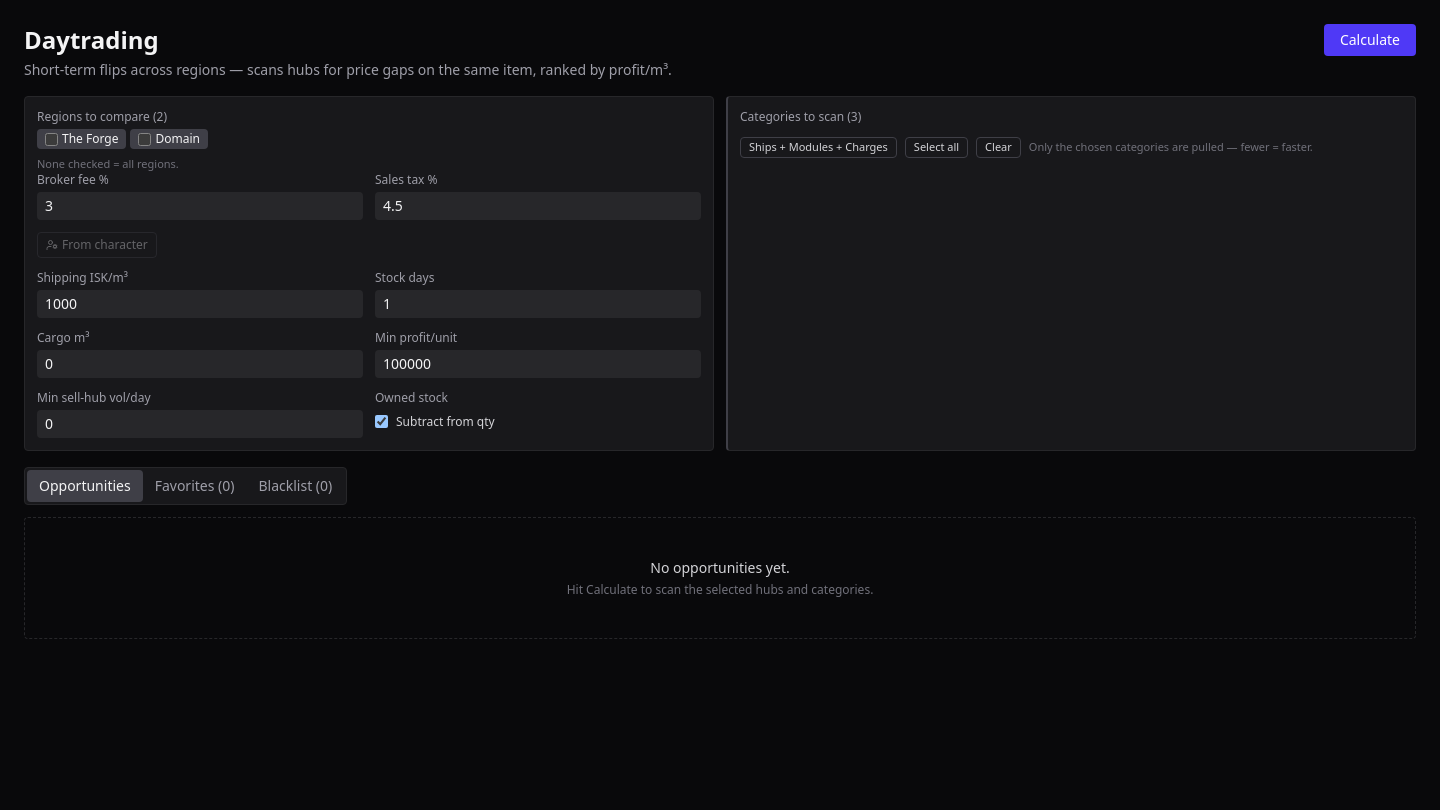
Test case: DaytradingPage › scans and renders a day-trade opportunity row
Click the button "Calculate" at (1370, 40), box [1324,24,1416,56]
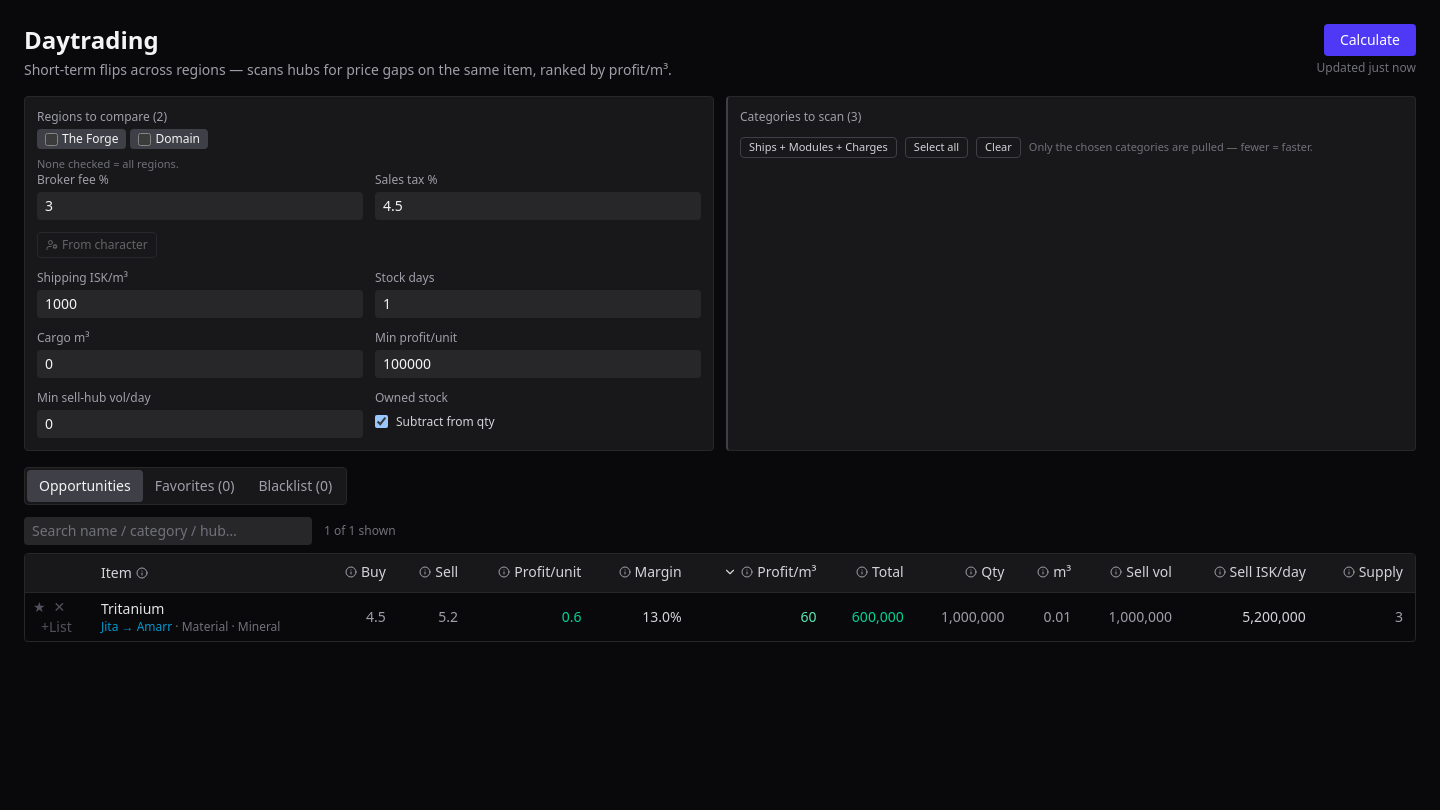
Check: the text "Tritanium" is shown, box [101,599,164,618]
